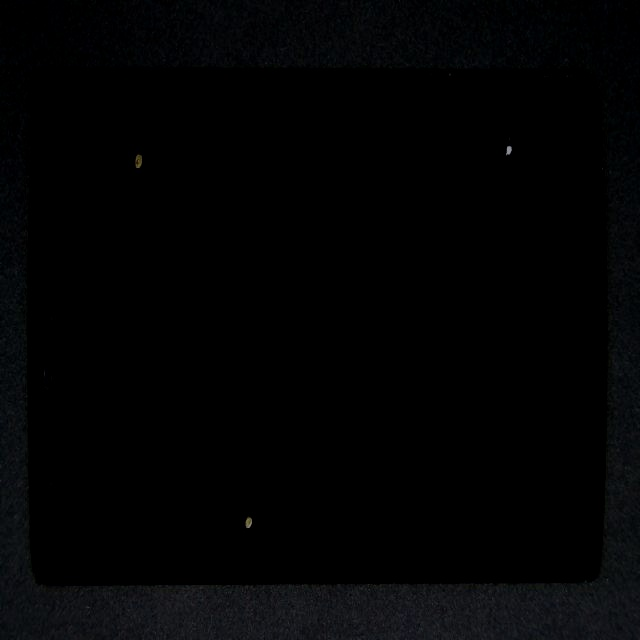stain: (144, 224, 367, 640), (276, 49, 640, 200), (82, 55, 202, 213)
